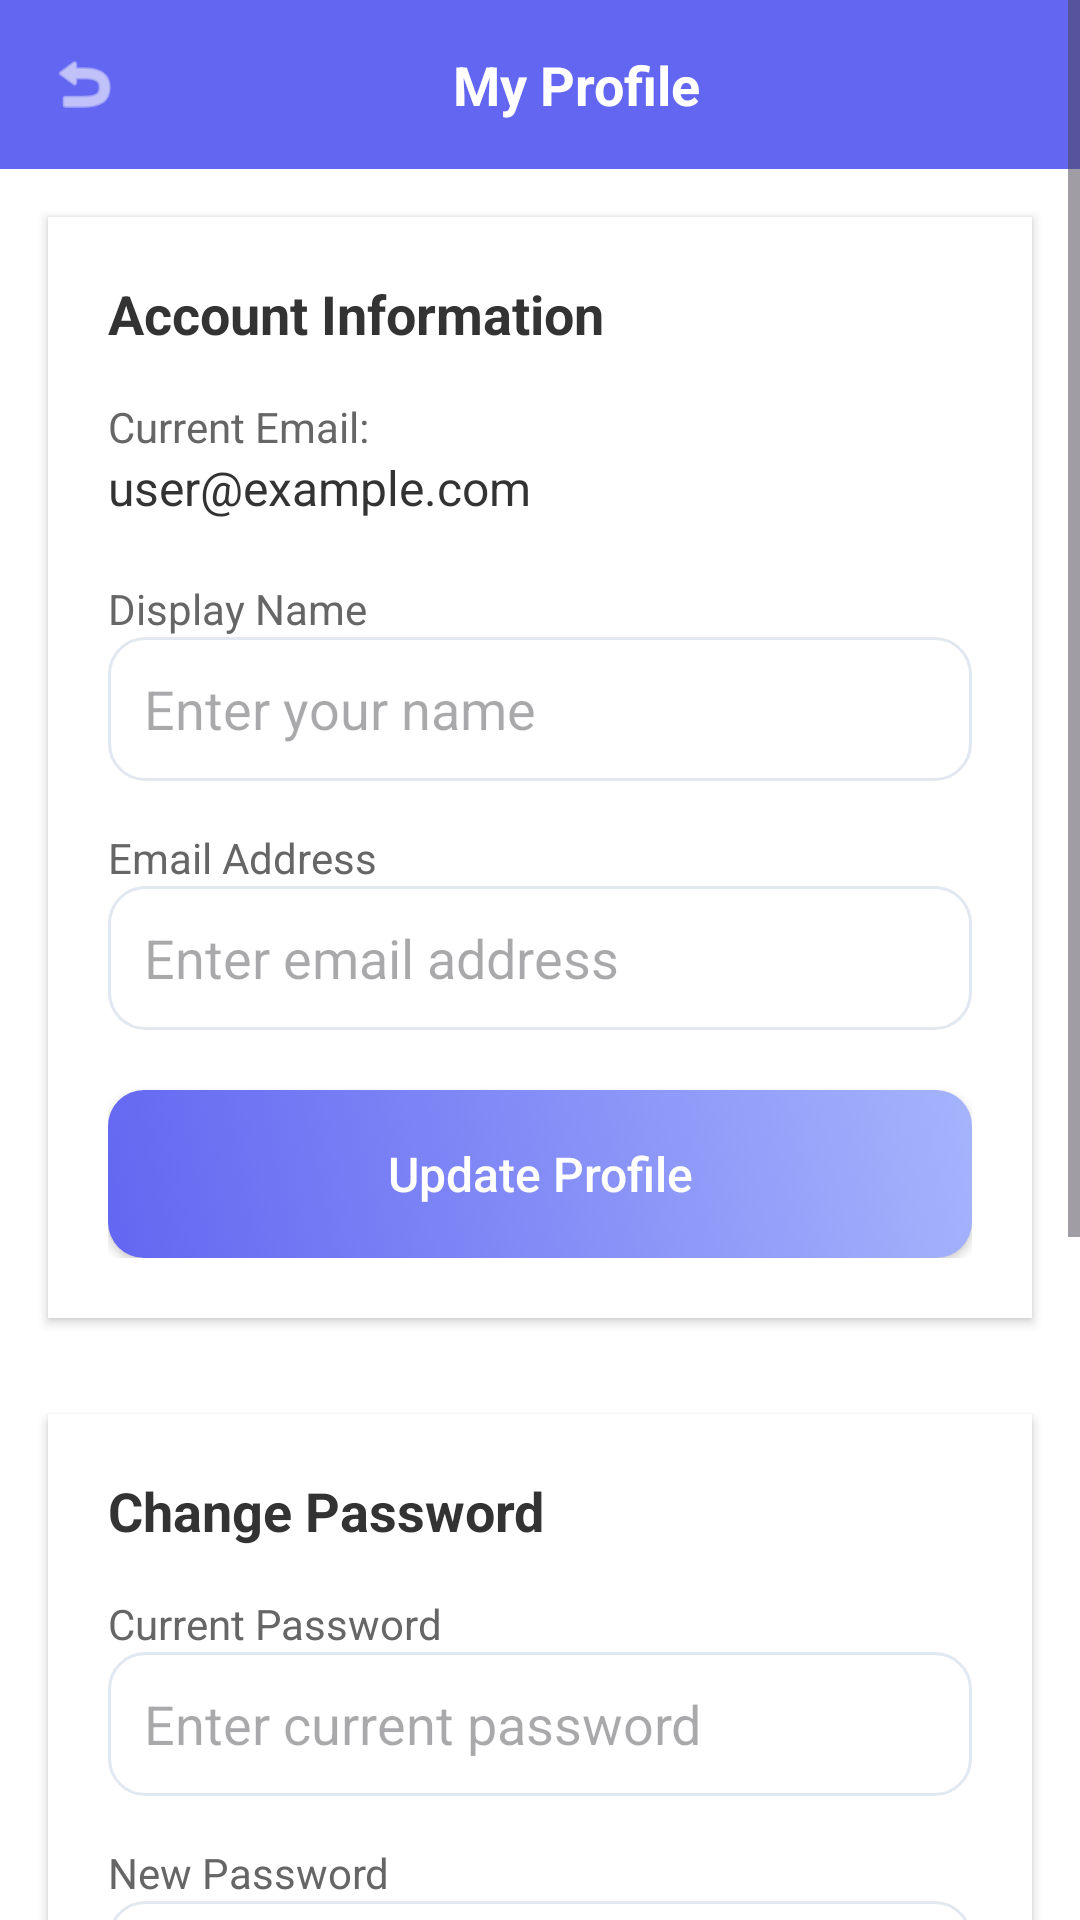

Screen size 1080w x 1920h. Icon name, then its box in pixels as (x1, y1, x2, y2):
revert: (59, 61, 111, 108)
